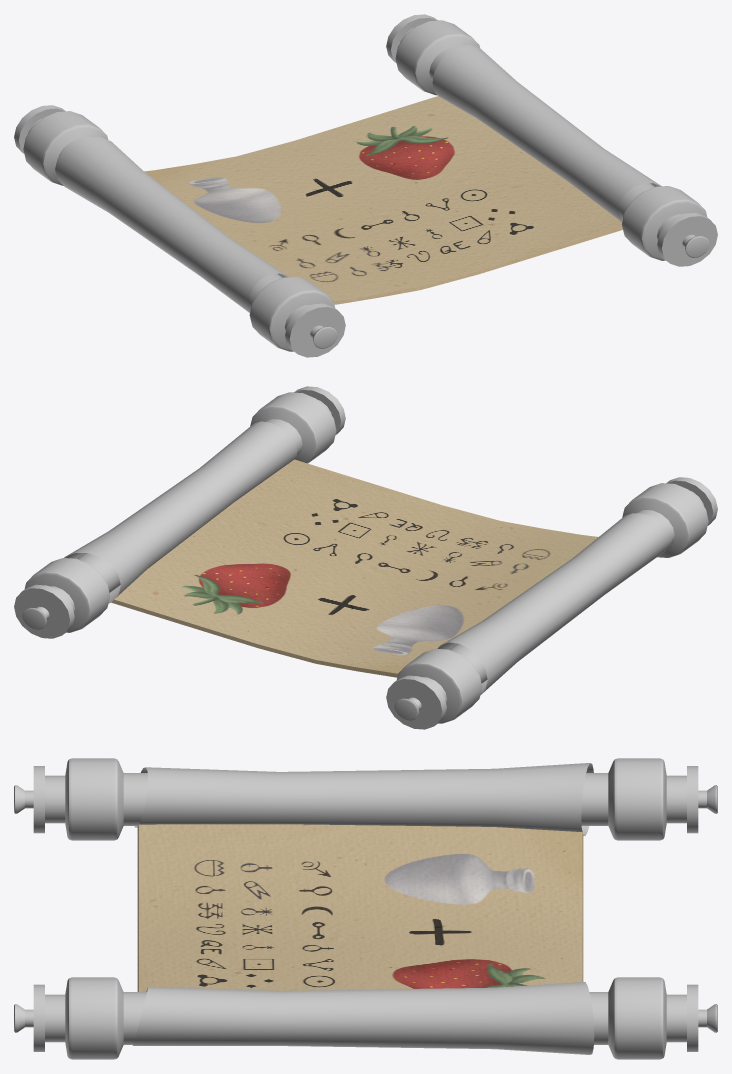
Rendered from Document_03_C_001.fbx.
3 renders of one model, top to bottom at view 1: azimuth 30°, elevation 25°; view 2: azimuth 150°, elevation 25°; view 3: azimuth 270°, elevation 25°, orthographic. The views are drawn at different scales.
Parts seen in each view (by area): view 1: Document_03_C_001; view 2: Document_03_C_001; view 3: Document_03_C_001.
Part boxes in pixels (x1,y1,x2,y2): Document_03_C_001: (14,14,717,357); Document_03_C_001: (14,386,717,729); Document_03_C_001: (14,758,717,1059).
Size of the model in its own units: 52.39 by 6.83 by 60.13.
